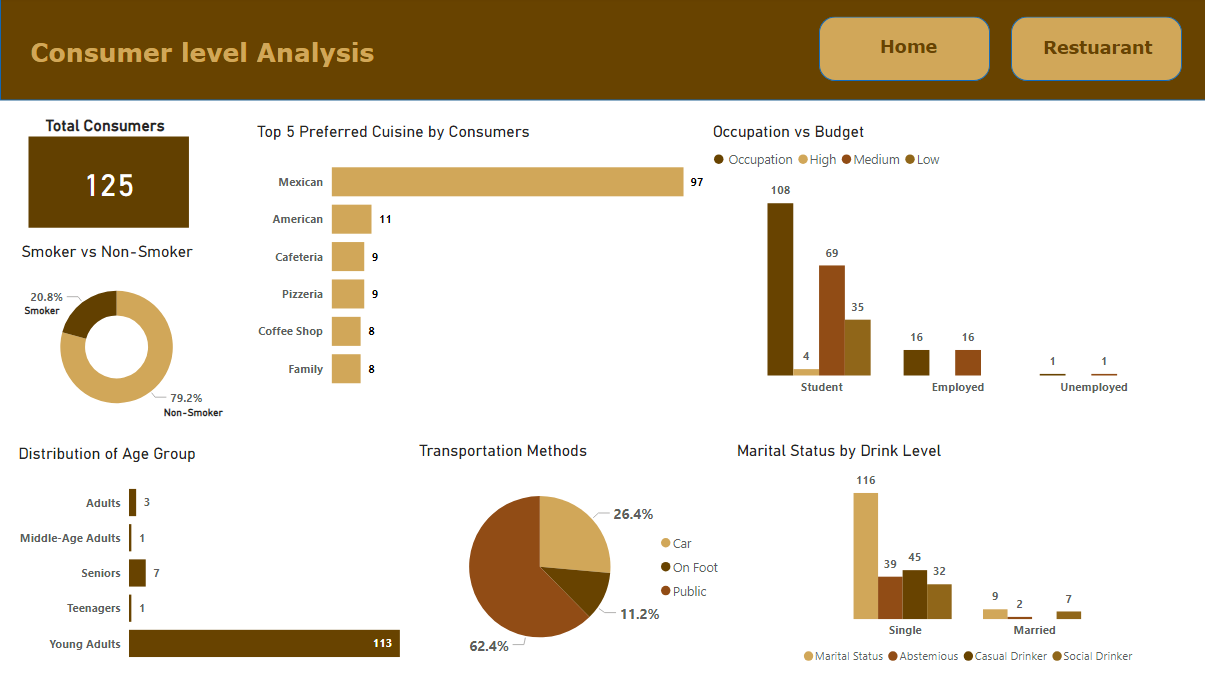

Layout of this report page (visuals, bound fields, positions):
{"tool":"powerbi","page":{"name":"Consumer Details","canvas":[1280,720],"ordinal":2},"visuals":[{"type":"shape","box":[0,0,1279.5,109.7],"z":0},{"type":"shape","box":[867.6,20.7,181.2,68.3],"z":0,"group":"g2"},{"type":"shape","box":[1070.6,20.7,181.2,68.3],"z":0,"group":"g3"},{"type":"card","fields":{"Values":["CountNonNull(consumers.Consumer_ID)"]},"box":[30.2,147.9,170,97],"z":0,"group":"g1"},{"type":"textbox","box":[925,35,75,33],"z":1000,"group":"g2"},{"type":"textbox","box":[1095,36.6,136,33],"z":1000,"group":"g3"},{"type":"group","id":"g1","title":"Alcoholic Service","box":[30.2,120.8,198.7,124],"z":1000},{"type":"textbox","box":[43.3,120.8,186.3,40.5],"z":1000,"group":"g1"},{"type":"clusteredBarChart","title":"Top 5 Preferred Cuisine by Consumers","fields":{"Category":["consumer_preferences.Preferred_Cuisine"],"Y":["CountNonNull(consumer_preferences.Preferred_Cuisine)"]},"box":[267,131.9,483.2,298.8],"z":2000},{"type":"clusteredColumnChart","title":"Occupation vs Budget","fields":{"Category":["consumers.Occupation"],"Y":["CountNonNull(consumers.Occupation)","Measure Table (2).highBudgetCnt","Measure Table (2).medBudgetcnt","Measure Table (2).lowBudgetcnt"]},"box":[750.2,131.9,529.3,298.8],"z":3000},{"type":"donutChart","title":"Smoker vs Non-Smoker","fields":{"Category":["consumers.Smoker"],"Y":["CountNonNull(consumers.Smoker)"]},"box":[17.5,259.1,211.4,203.4],"z":4000},{"type":"textbox","box":[168,424,104.9,35],"z":5000},{"type":"clusteredBarChart","title":"Distribution of Age Group","fields":{"Category":["consumers.age_grp"],"Y":["CountNonNull(consumers.age_grp)"]},"box":[14.3,473.6,441.9,246.4],"z":6000},{"type":"clusteredColumnChart","title":"Marital Status by Drink Level","fields":{"Category":["consumers.Marital_Status"],"Y":["CountNonNull(consumers.Marital_Status)","Measure Table (2).Abstemious","Measure Table (2).Casual Drinker","Measure Table (2).Social Drinker"]},"box":[775.6,470.5,503.8,246.4],"z":7000},{"type":"pieChart","title":"Transportation Methods","fields":{"Category":["consumers.Transportation_Method"],"Y":["CountNonNull(consumers.Transportation_Method)"]},"box":[438.7,470.5,337,246.4],"z":8000},{"type":"textbox","box":[20,316,82.6,39.7],"z":9000},{"type":"group","id":"g2","title":"Home","box":[867.6,20.7,181.2,68.3],"z":10000},{"type":"group","id":"g3","title":"RestButton","box":[1070.6,20.7,181.2,68.3],"z":11000},{"type":"textbox","box":[27,36.6,653,65.2],"z":12000}]}

Visuals, with their boxes in screenshot pixels (x1, y1, x2, y2), scaled from the page's 1280x720 canvas onto the 1205x673 screenshot:
shape: 0:0:1204:103
shape: 817:19:987:83
shape: 1008:19:1178:83
card - CountNonNull(consumers.Consumer_ID): 28:138:188:229
textbox: 871:33:941:64
textbox: 1031:34:1159:65
"Alcoholic Service" group: 28:113:215:229
textbox: 41:113:216:151
"Top 5 Preferred Cuisine by Consumers" clusteredBarChart: 251:123:706:403
"Occupation vs Budget" clusteredColumnChart: 706:123:1204:403
"Smoker vs Non-Smoker" donutChart: 16:242:215:432
textbox: 158:396:257:429
"Distribution of Age Group" clusteredBarChart: 13:443:429:672
"Marital Status by Drink Level" clusteredColumnChart: 730:440:1204:670
"Transportation Methods" pieChart: 413:440:730:670
textbox: 19:295:97:332
"Home" group: 817:19:987:83
"RestButton" group: 1008:19:1178:83
textbox: 25:34:640:95
